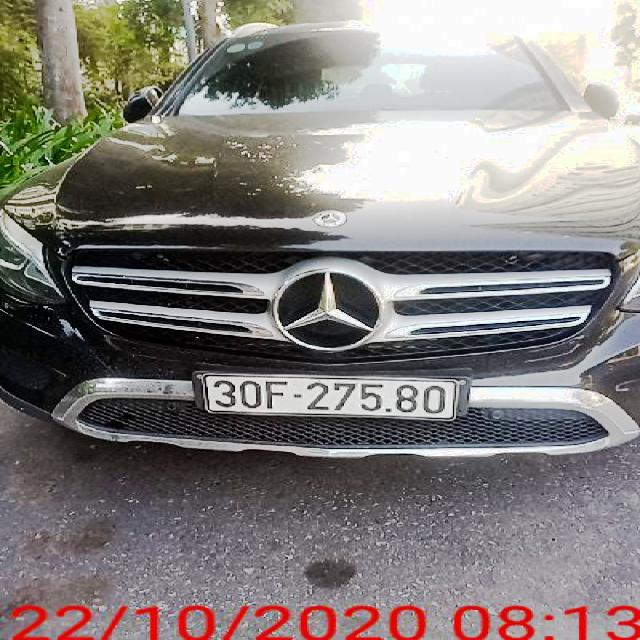license_plate: (204, 374, 464, 423)
